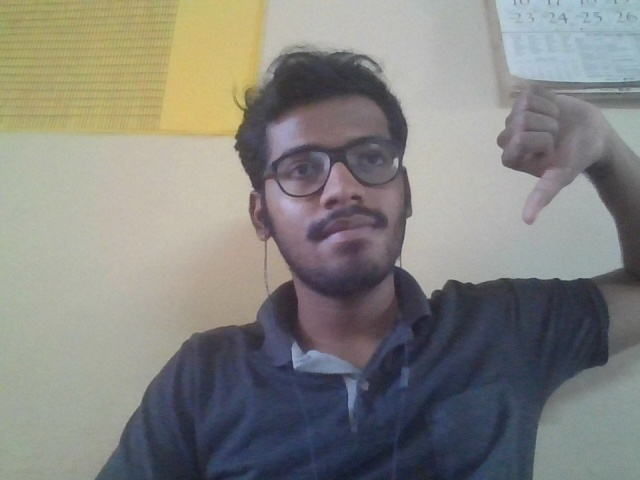ThumbsDown: (496, 85, 609, 226)
